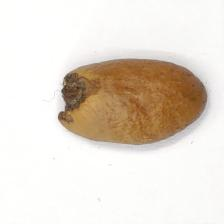NG: (53, 69, 105, 138)
